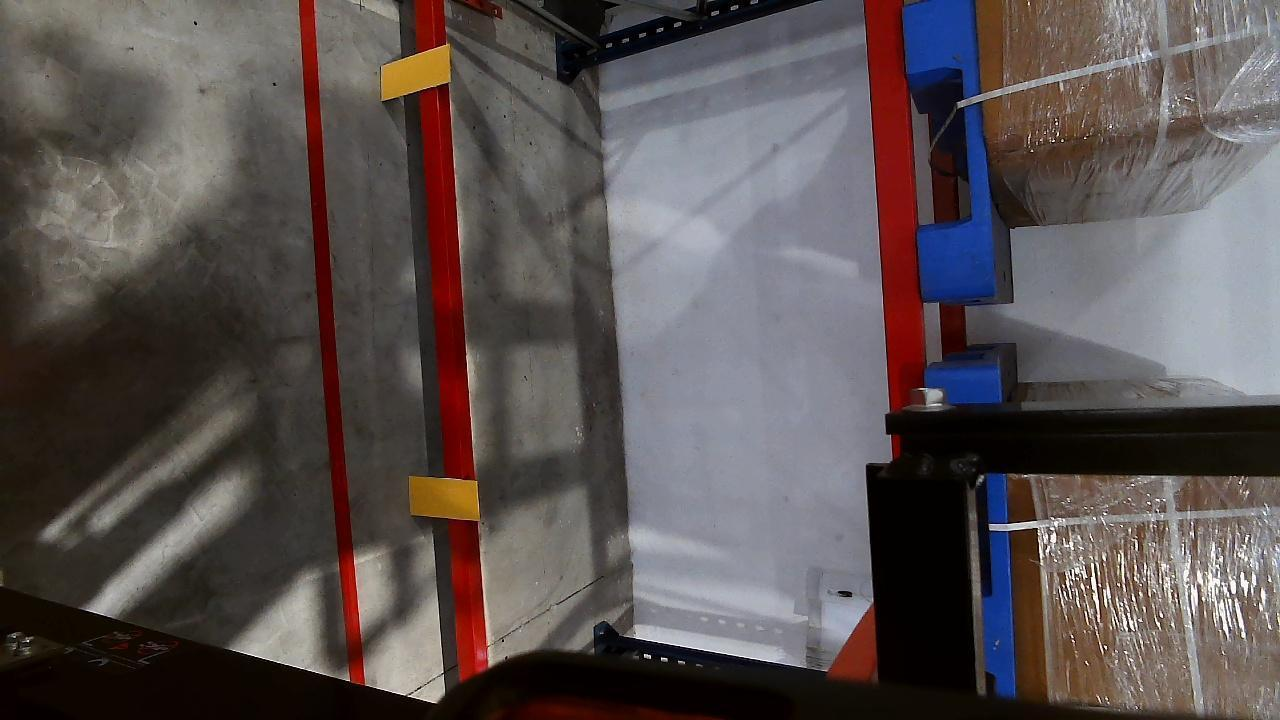red_line: (295, 0, 360, 658)
